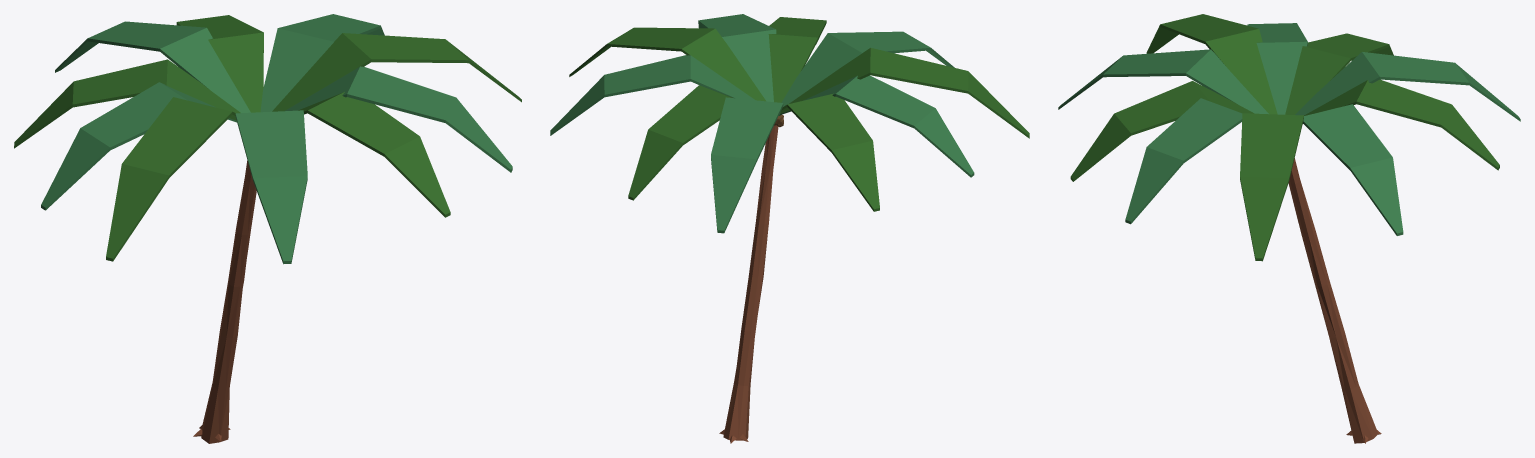
Rendered from HS_LP_Tree_Coconut_01.fbx.
The picture shows the model from 3 angles, left to right: view 1: azimuth 30°, elevation 25°; view 2: azimuth 150°, elevation 25°; view 3: azimuth 270°, elevation 25°; orthographic projection. The views are drawn at different scales.
Visible parts, largest first — view 1: HS_LP_Tree_Coconut_01; view 2: HS_LP_Tree_Coconut_01; view 3: HS_LP_Tree_Coconut_01.
Part boxes in pixels (x1,y1,x2,y2): HS_LP_Tree_Coconut_01: (14, 14, 521, 443); HS_LP_Tree_Coconut_01: (550, 14, 1029, 443); HS_LP_Tree_Coconut_01: (1058, 14, 1520, 443).
Size of the model in its own units: 797 by 656 by 748.
